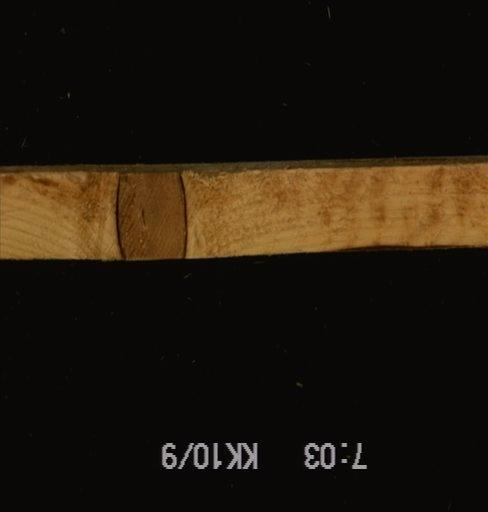edge_knot: (113, 165, 190, 262)
